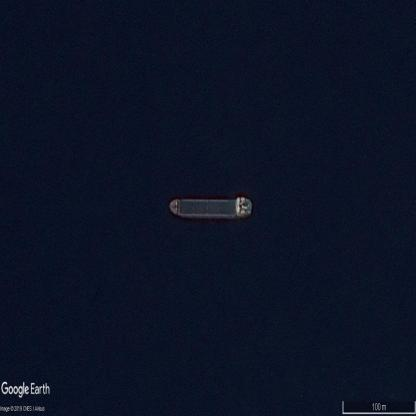ship: (169, 196, 252, 219)
